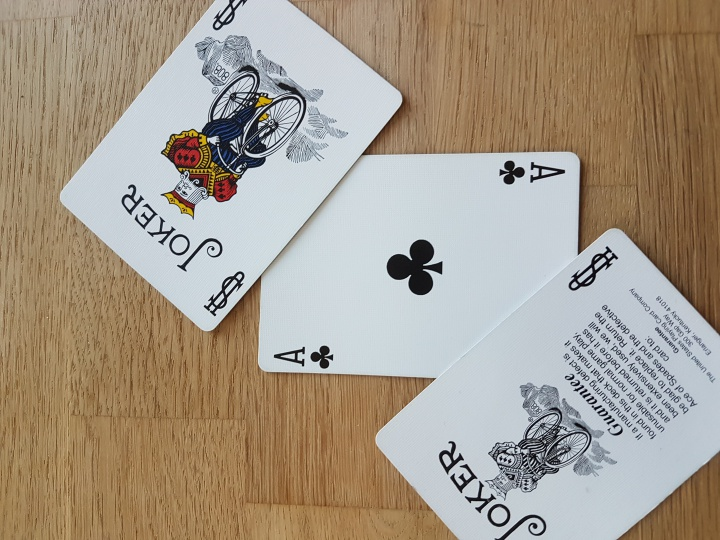ace: (248, 142, 589, 387)
